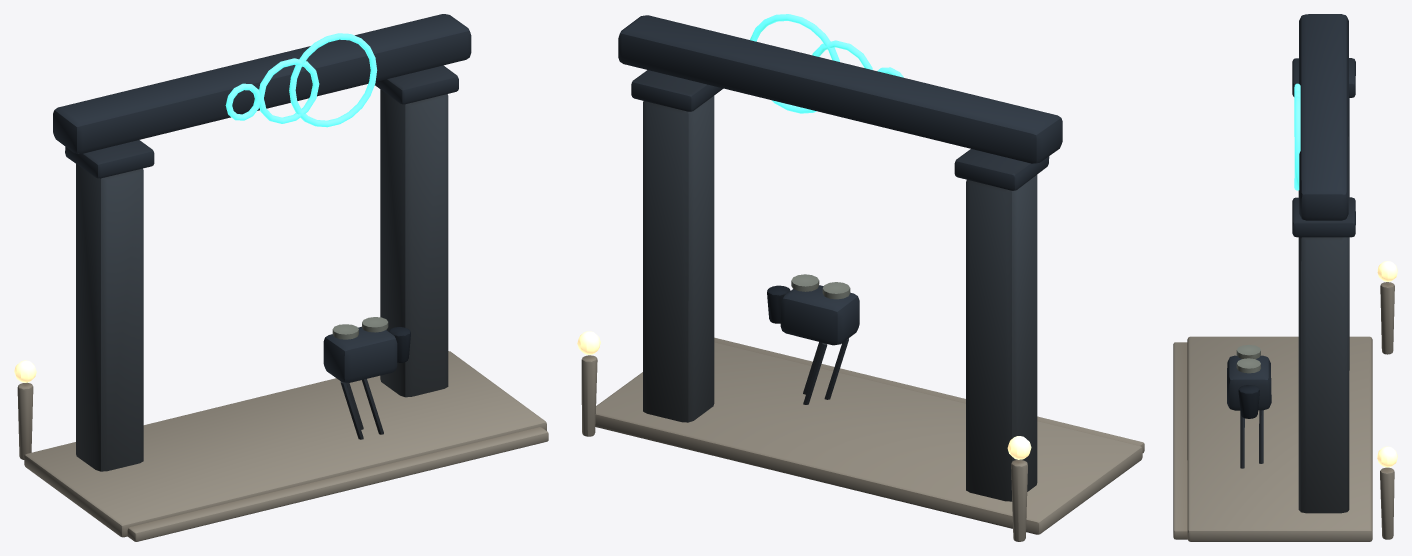
3 views of the same model, side by side, from view 1: azimuth 30°, elevation 25°; view 2: azimuth 150°, elevation 25°; view 3: azimuth 270°, elevation 25° (orthographic). The views are drawn at different scales.
Visible parts, largest first — view 1: gate_d02a9971; view 2: gate_d02a9971; view 3: gate_d02a9971.
Part boxes in pixels (<box>): gate_d02a9971: <box>14,14,548,541</box>; gate_d02a9971: <box>577,14,1144,541</box>; gate_d02a9971: <box>1173,14,1397,541</box>.
Bounding box in the file's own units: 5.24 × 4.64 × 2.54.
